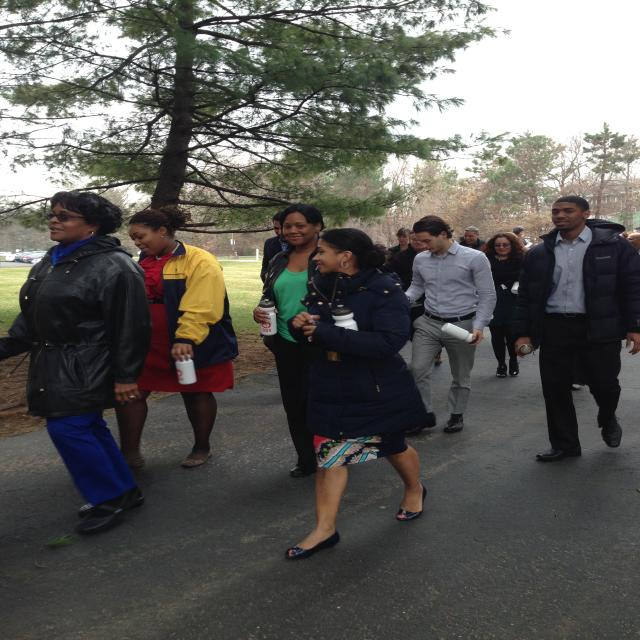body: (0, 190, 156, 538), (283, 226, 430, 562), (509, 195, 640, 463), (117, 204, 240, 472), (250, 202, 328, 480), (401, 215, 496, 434), (477, 232, 529, 378), (391, 228, 443, 366), (259, 210, 293, 285), (386, 228, 416, 262), (615, 224, 640, 255), (458, 226, 487, 250), (512, 225, 530, 248), (372, 239, 391, 254), (456, 234, 464, 245)
